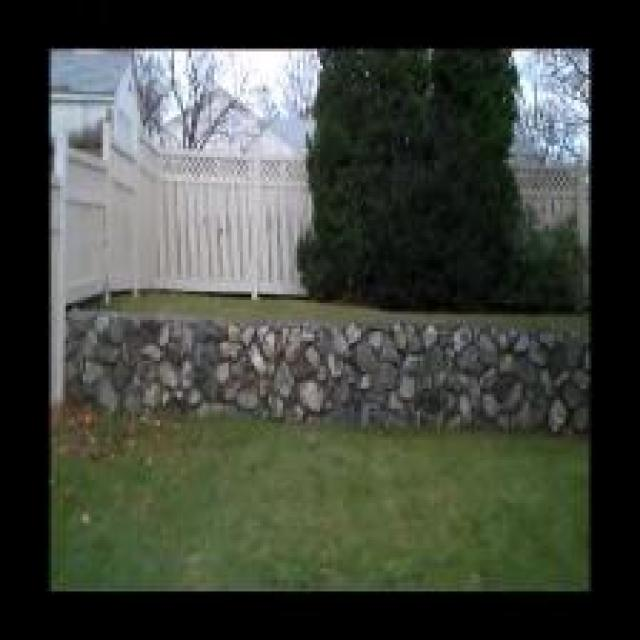other: (235, 66, 317, 138)
